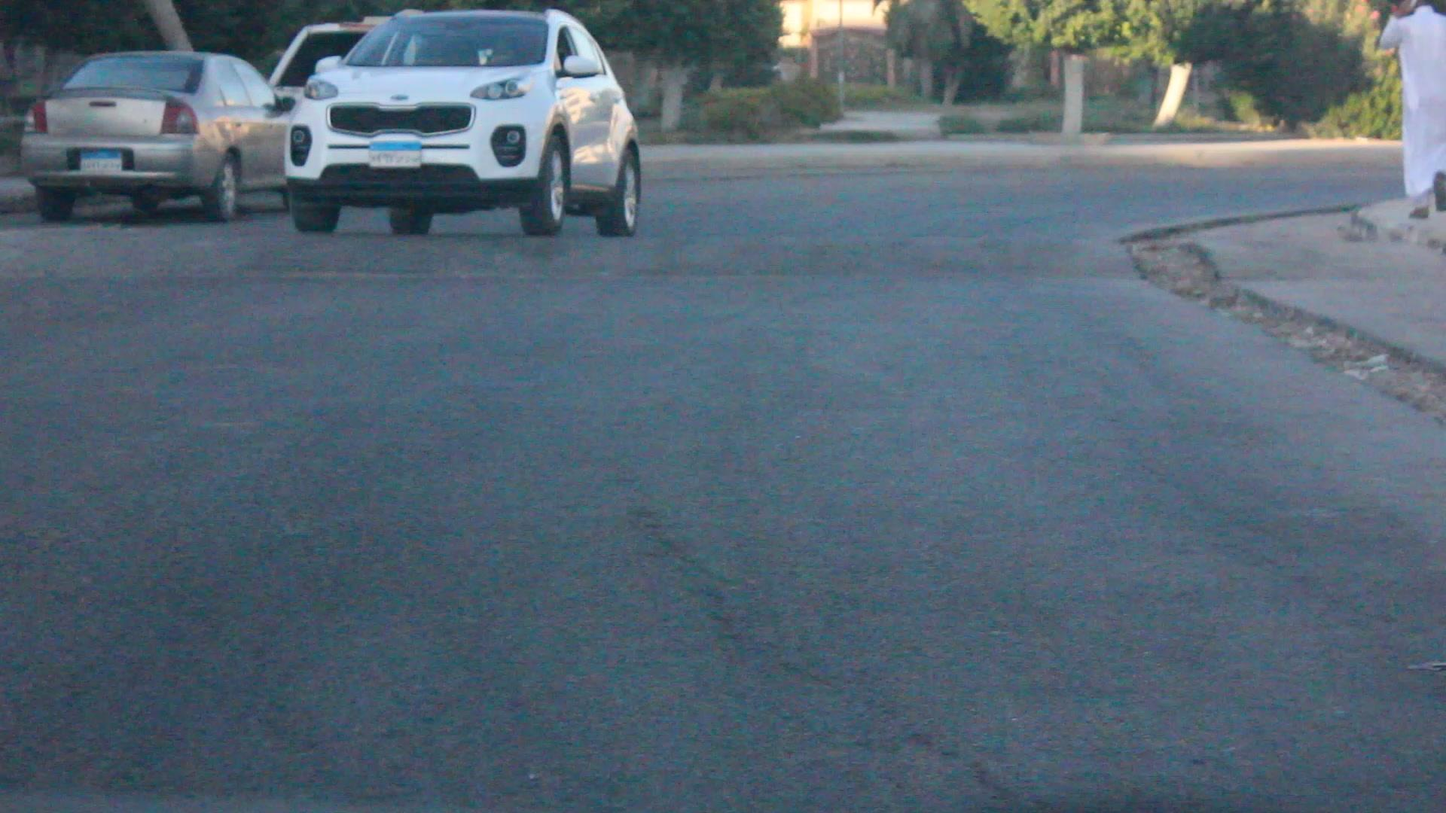Bump: (2, 203, 1154, 316)
